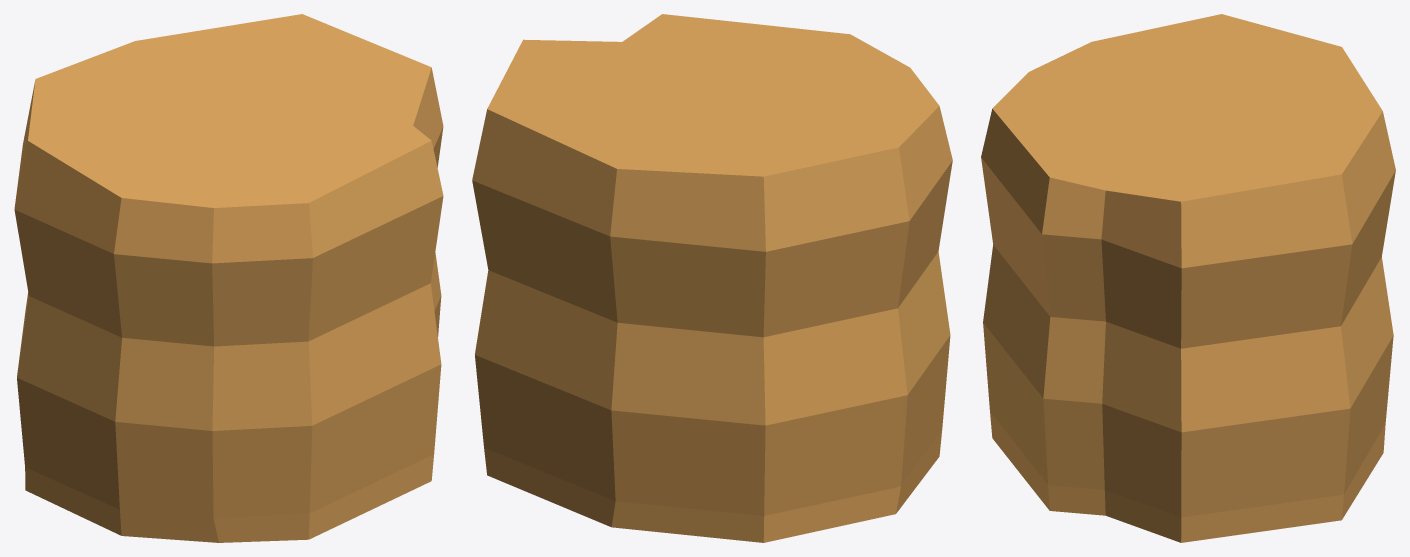
Rendered from Big rock.fbx.
3 views of the same model, side by side, from view 1: azimuth 30°, elevation 25°; view 2: azimuth 150°, elevation 25°; view 3: azimuth 270°, elevation 25° (orthographic). The views are drawn at different scales.
Visible parts, largest first — view 1: Circle; view 2: Circle; view 3: Circle.
Boxes of the visible parts, left/top/right/bottom form: Circle: left=14, top=14, right=443, bottom=542; Circle: left=472, top=14, right=952, bottom=542; Circle: left=981, top=14, right=1395, bottom=542.
Size of the model in its own units: 220 by 182 by 198.
